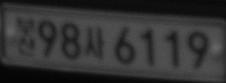1: (137, 26, 160, 65), (162, 29, 184, 66)
6: (113, 25, 136, 64)
8: (60, 21, 82, 60)
9: (186, 29, 209, 69), (37, 19, 58, 57)
부산_V: (14, 15, 36, 57)
사: (84, 25, 107, 60)
